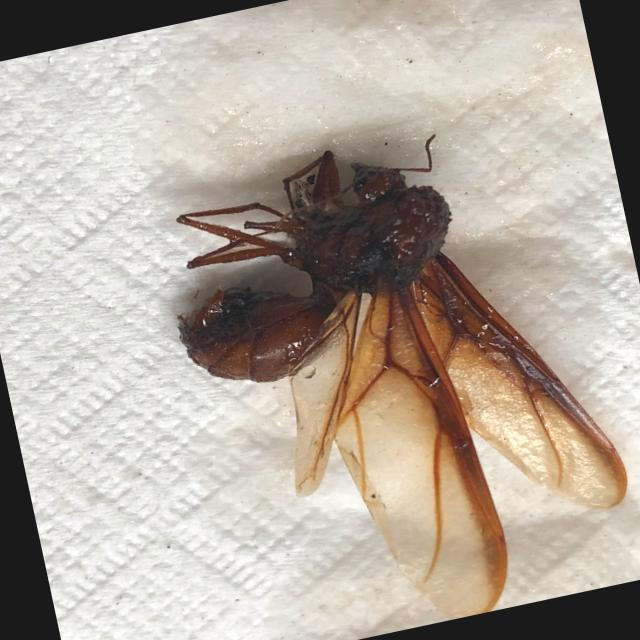Dead-Male-Alate: (147, 102, 640, 640)
